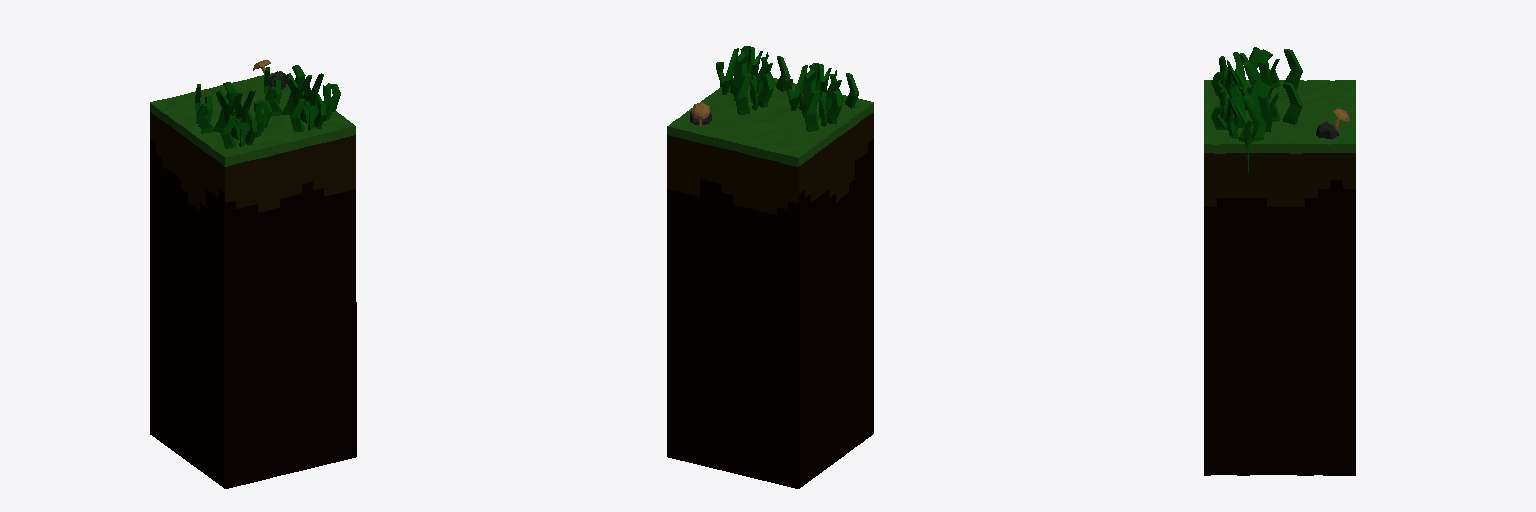
Rendered from grass1.obj.
3 renders of one model, left to right at view 1: azimuth 30°, elevation 25°; view 2: azimuth 150°, elevation 25°; view 3: azimuth 270°, elevation 25°, orthographic.
Parts seen in each view (by area): view 1: Cube.080, Cube.081, Cube.082; view 2: Cube.080, Cube.081, Cube.082; view 3: Cube.080, Cube.082, Cube.081.
Part boxes in pixels (bbox=[...]): Cube.080: bbox=[150, 71, 356, 488]; Cube.081: bbox=[195, 82, 271, 148]; Cube.082: bbox=[264, 65, 340, 131]; Cube.080: bbox=[667, 78, 873, 488]; Cube.081: bbox=[785, 63, 858, 131]; Cube.082: bbox=[716, 46, 790, 114]; Cube.080: bbox=[1204, 80, 1355, 475]; Cube.082: bbox=[1211, 80, 1302, 171]; Cube.081: bbox=[1211, 47, 1302, 110].
Bounding box in the file's own units: 20.27 × 53.48 × 19.41.